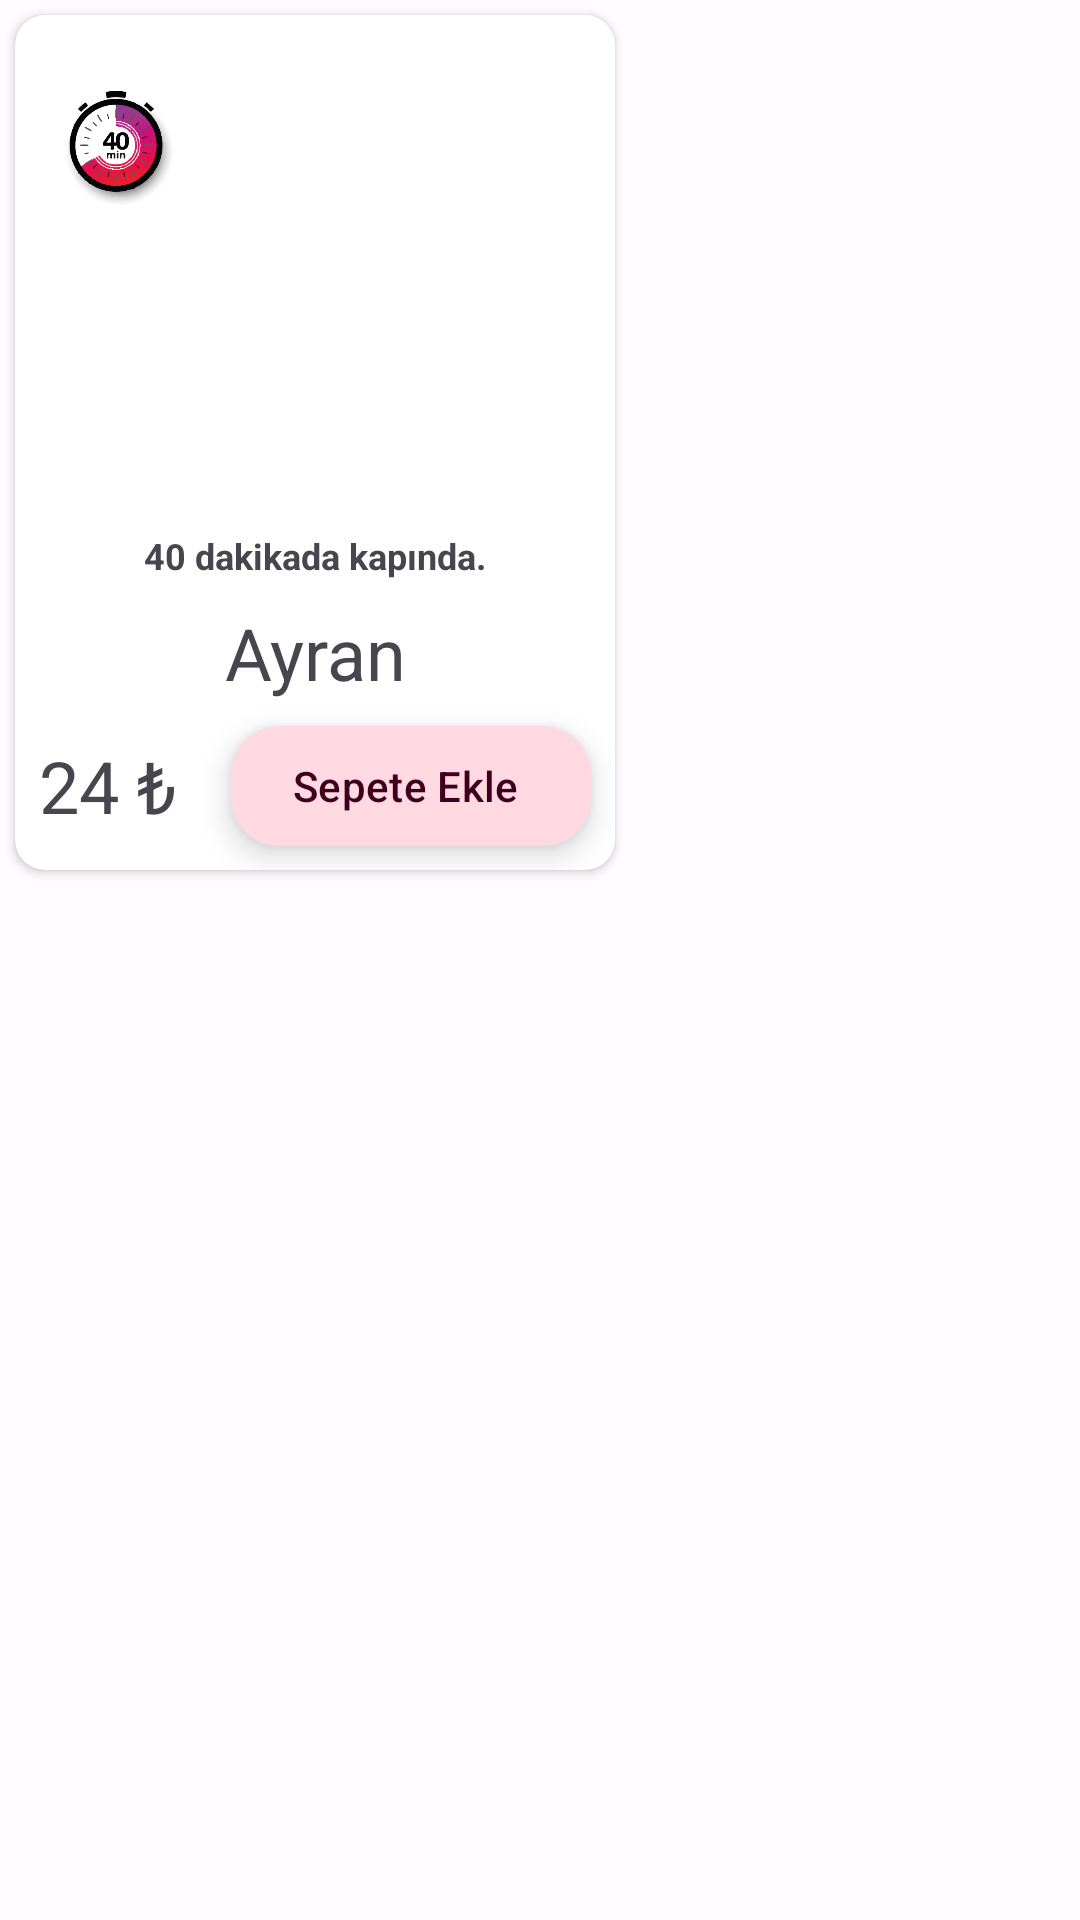

Screen size 1080px x 1920px. Icon name, then its center in pixels as [x,y]:
timer: [118,145]
